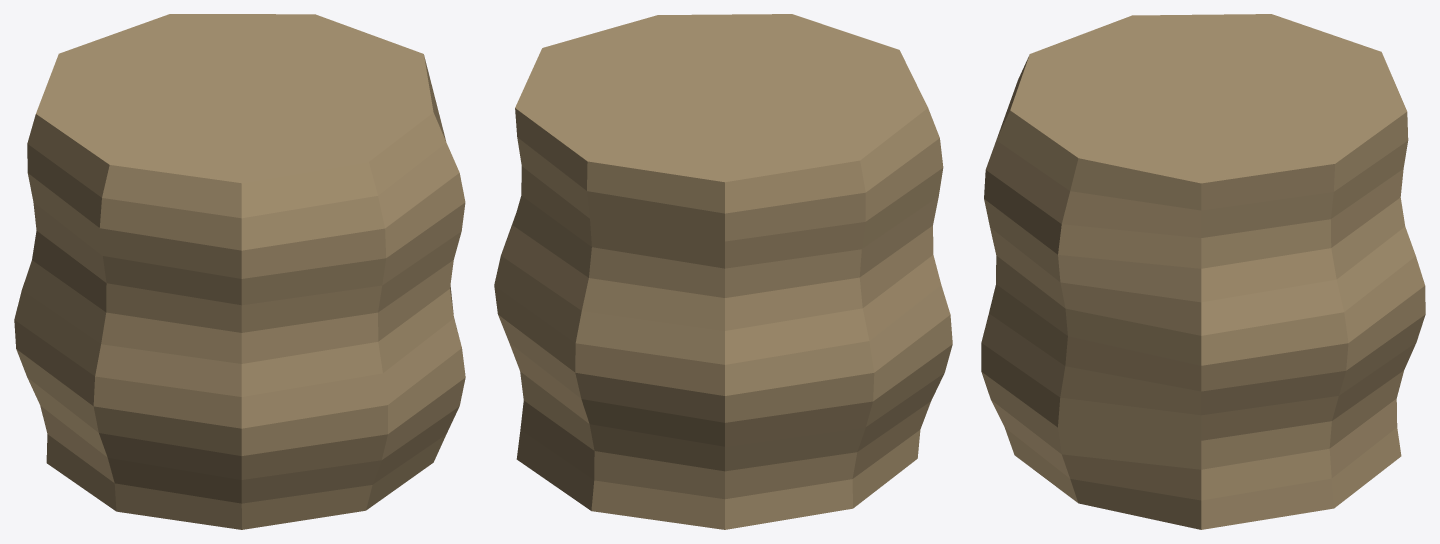
The model's file is picket.glb.
3 views of the same model, side by side, from view 1: azimuth 30°, elevation 25°; view 2: azimuth 150°, elevation 25°; view 3: azimuth 270°, elevation 25° (orthographic).
Visible parts, largest first — view 1: Picket; view 2: Picket; view 3: Picket.
Boxes of the visible parts, x1,y1,x2,y2 form: Picket: (14,14,465,529); Picket: (494,14,952,529); Picket: (981,14,1425,529).
Bounding box in the file's own units: 1 × 1 × 1.
